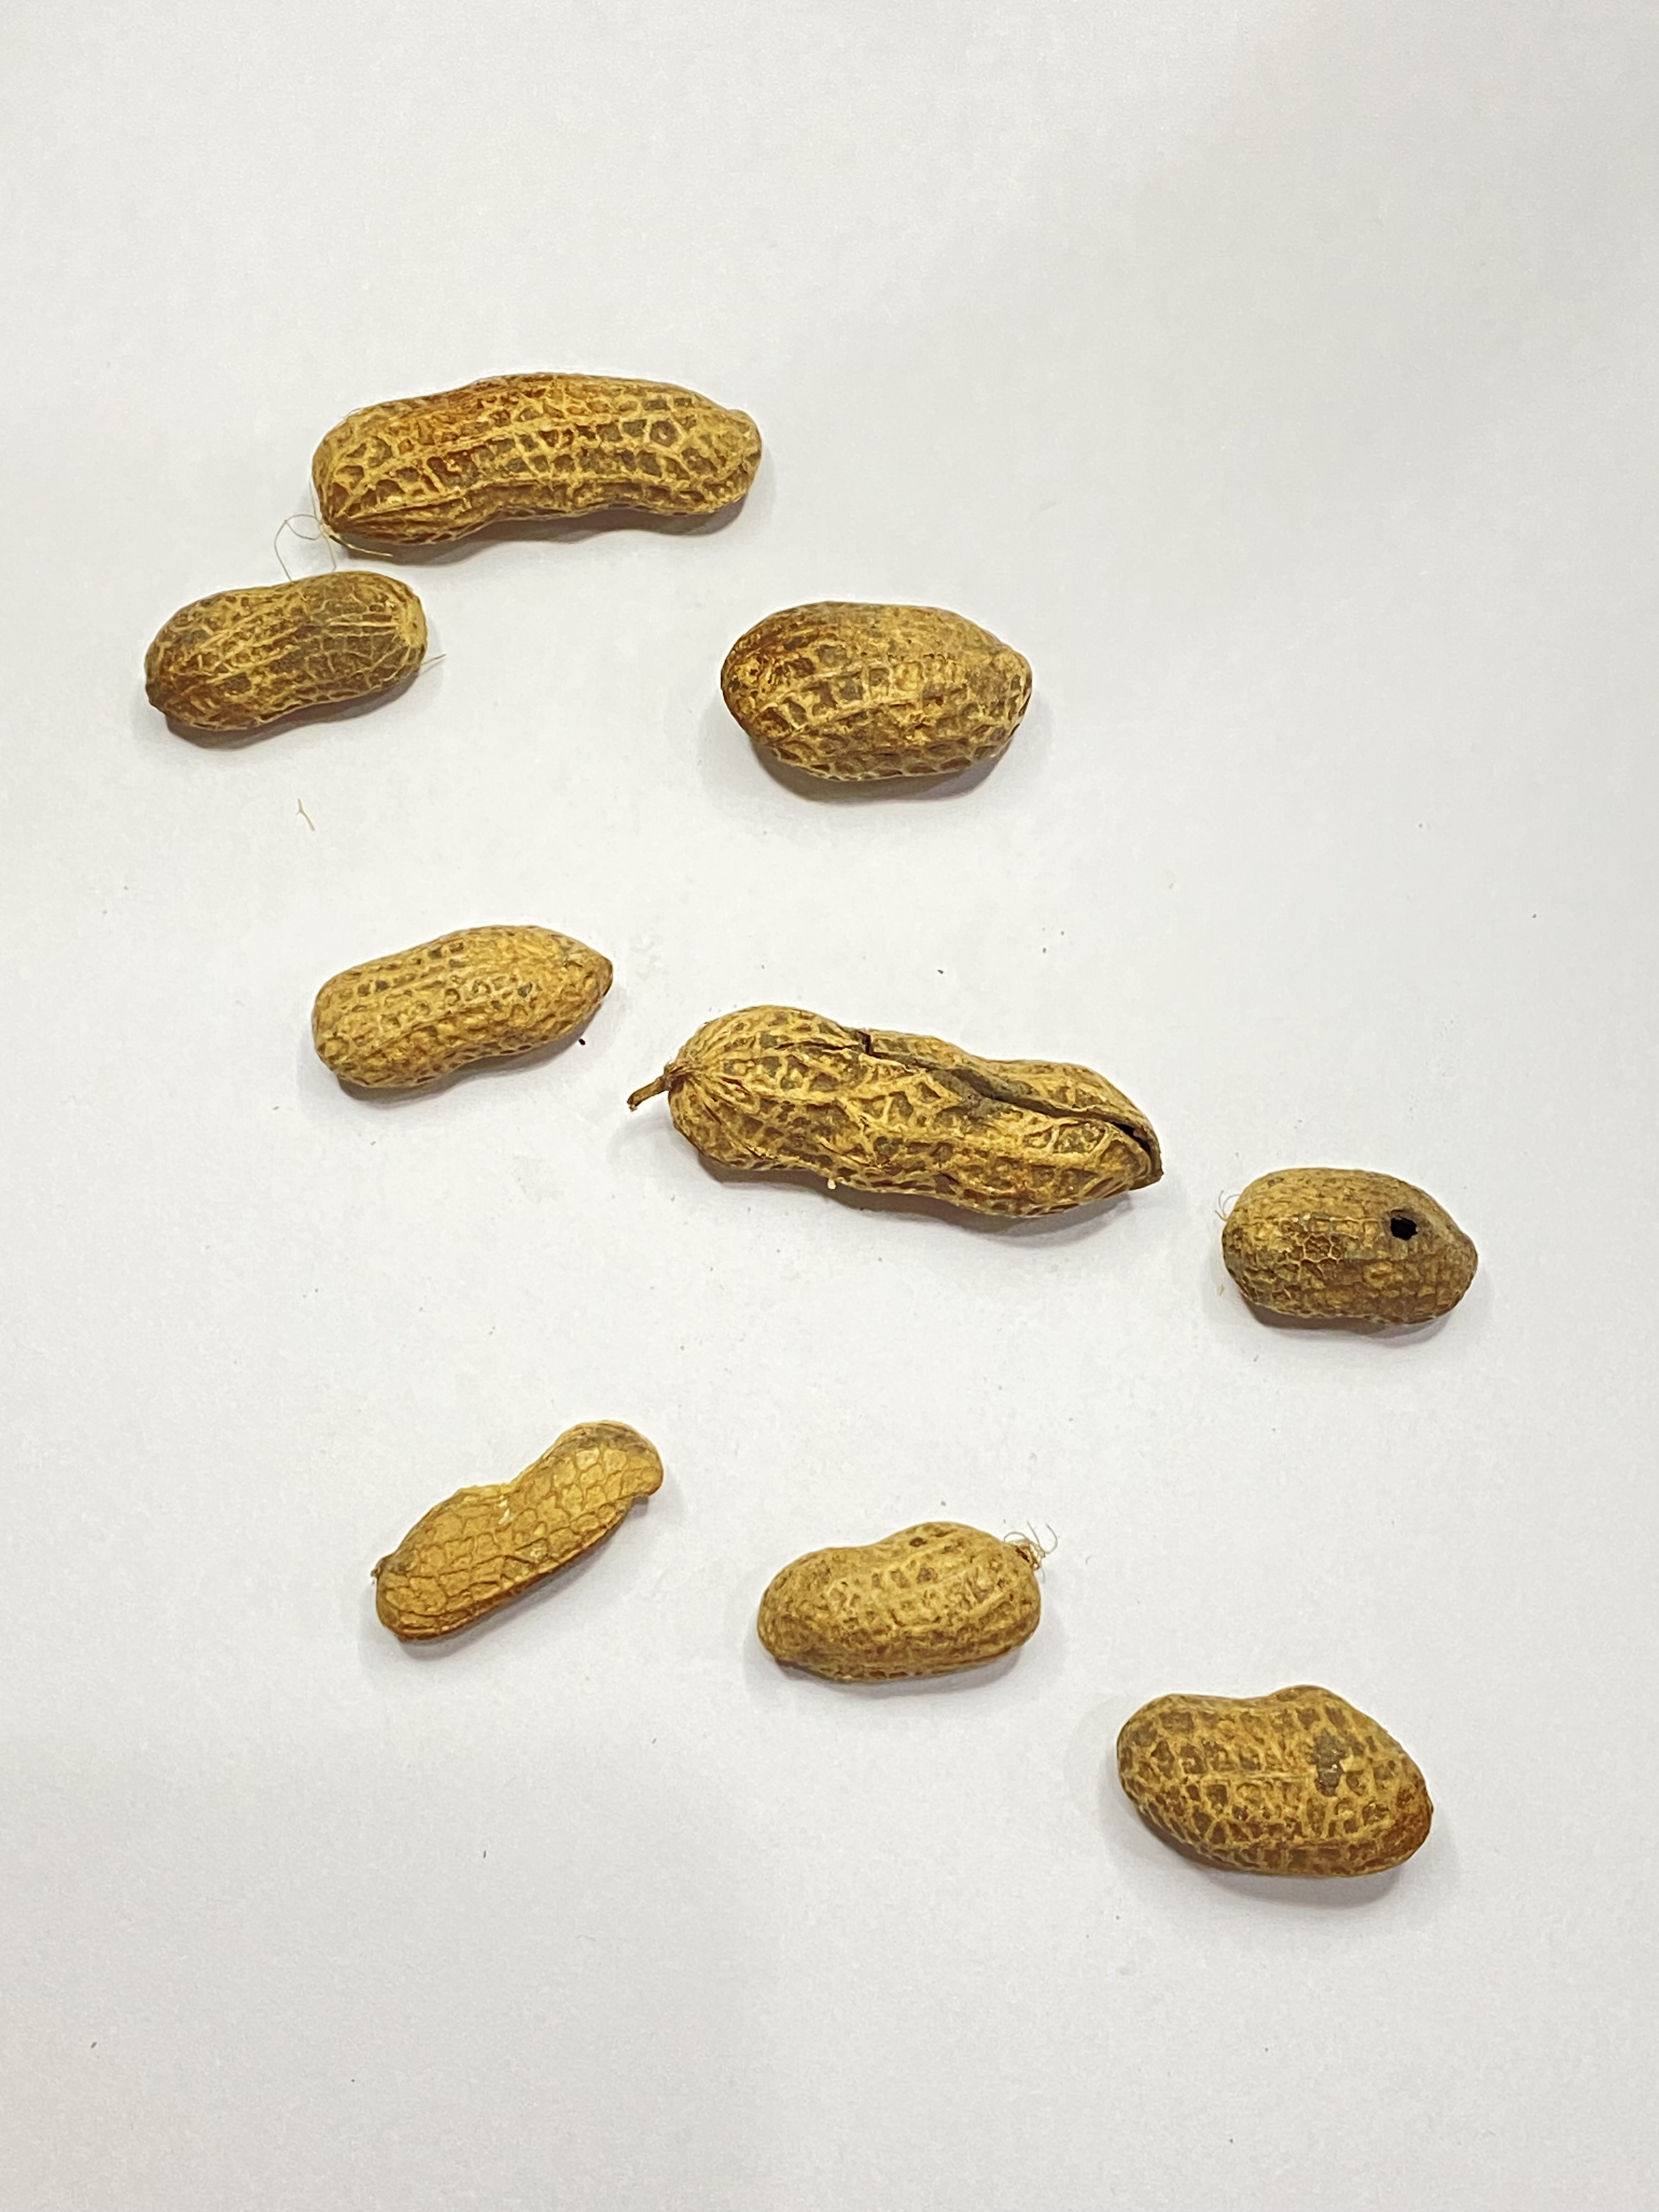kacang1: (721, 589, 1122, 819), (1119, 1651, 1455, 1921), (1215, 1123, 1492, 1379), (735, 1500, 1072, 1709)
kacang2: (328, 1386, 714, 1651), (279, 904, 633, 1096), (134, 571, 430, 752)
kacang3: (657, 961, 1194, 1252), (265, 320, 810, 550)
